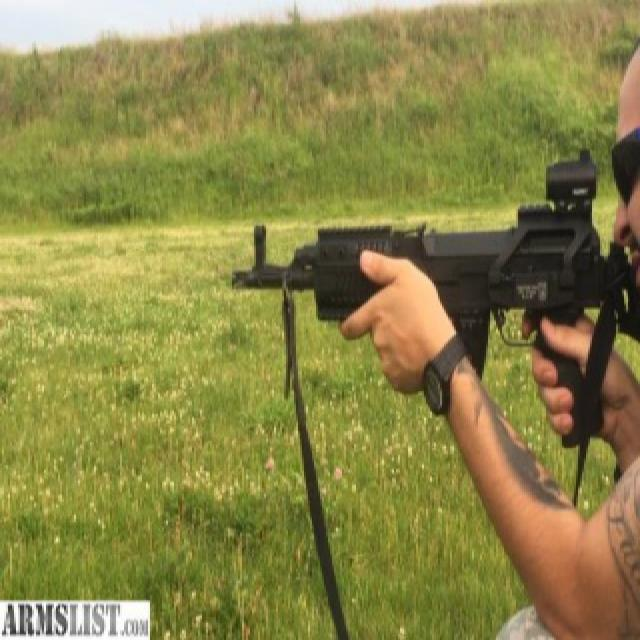weapon: (226, 155, 636, 383)
